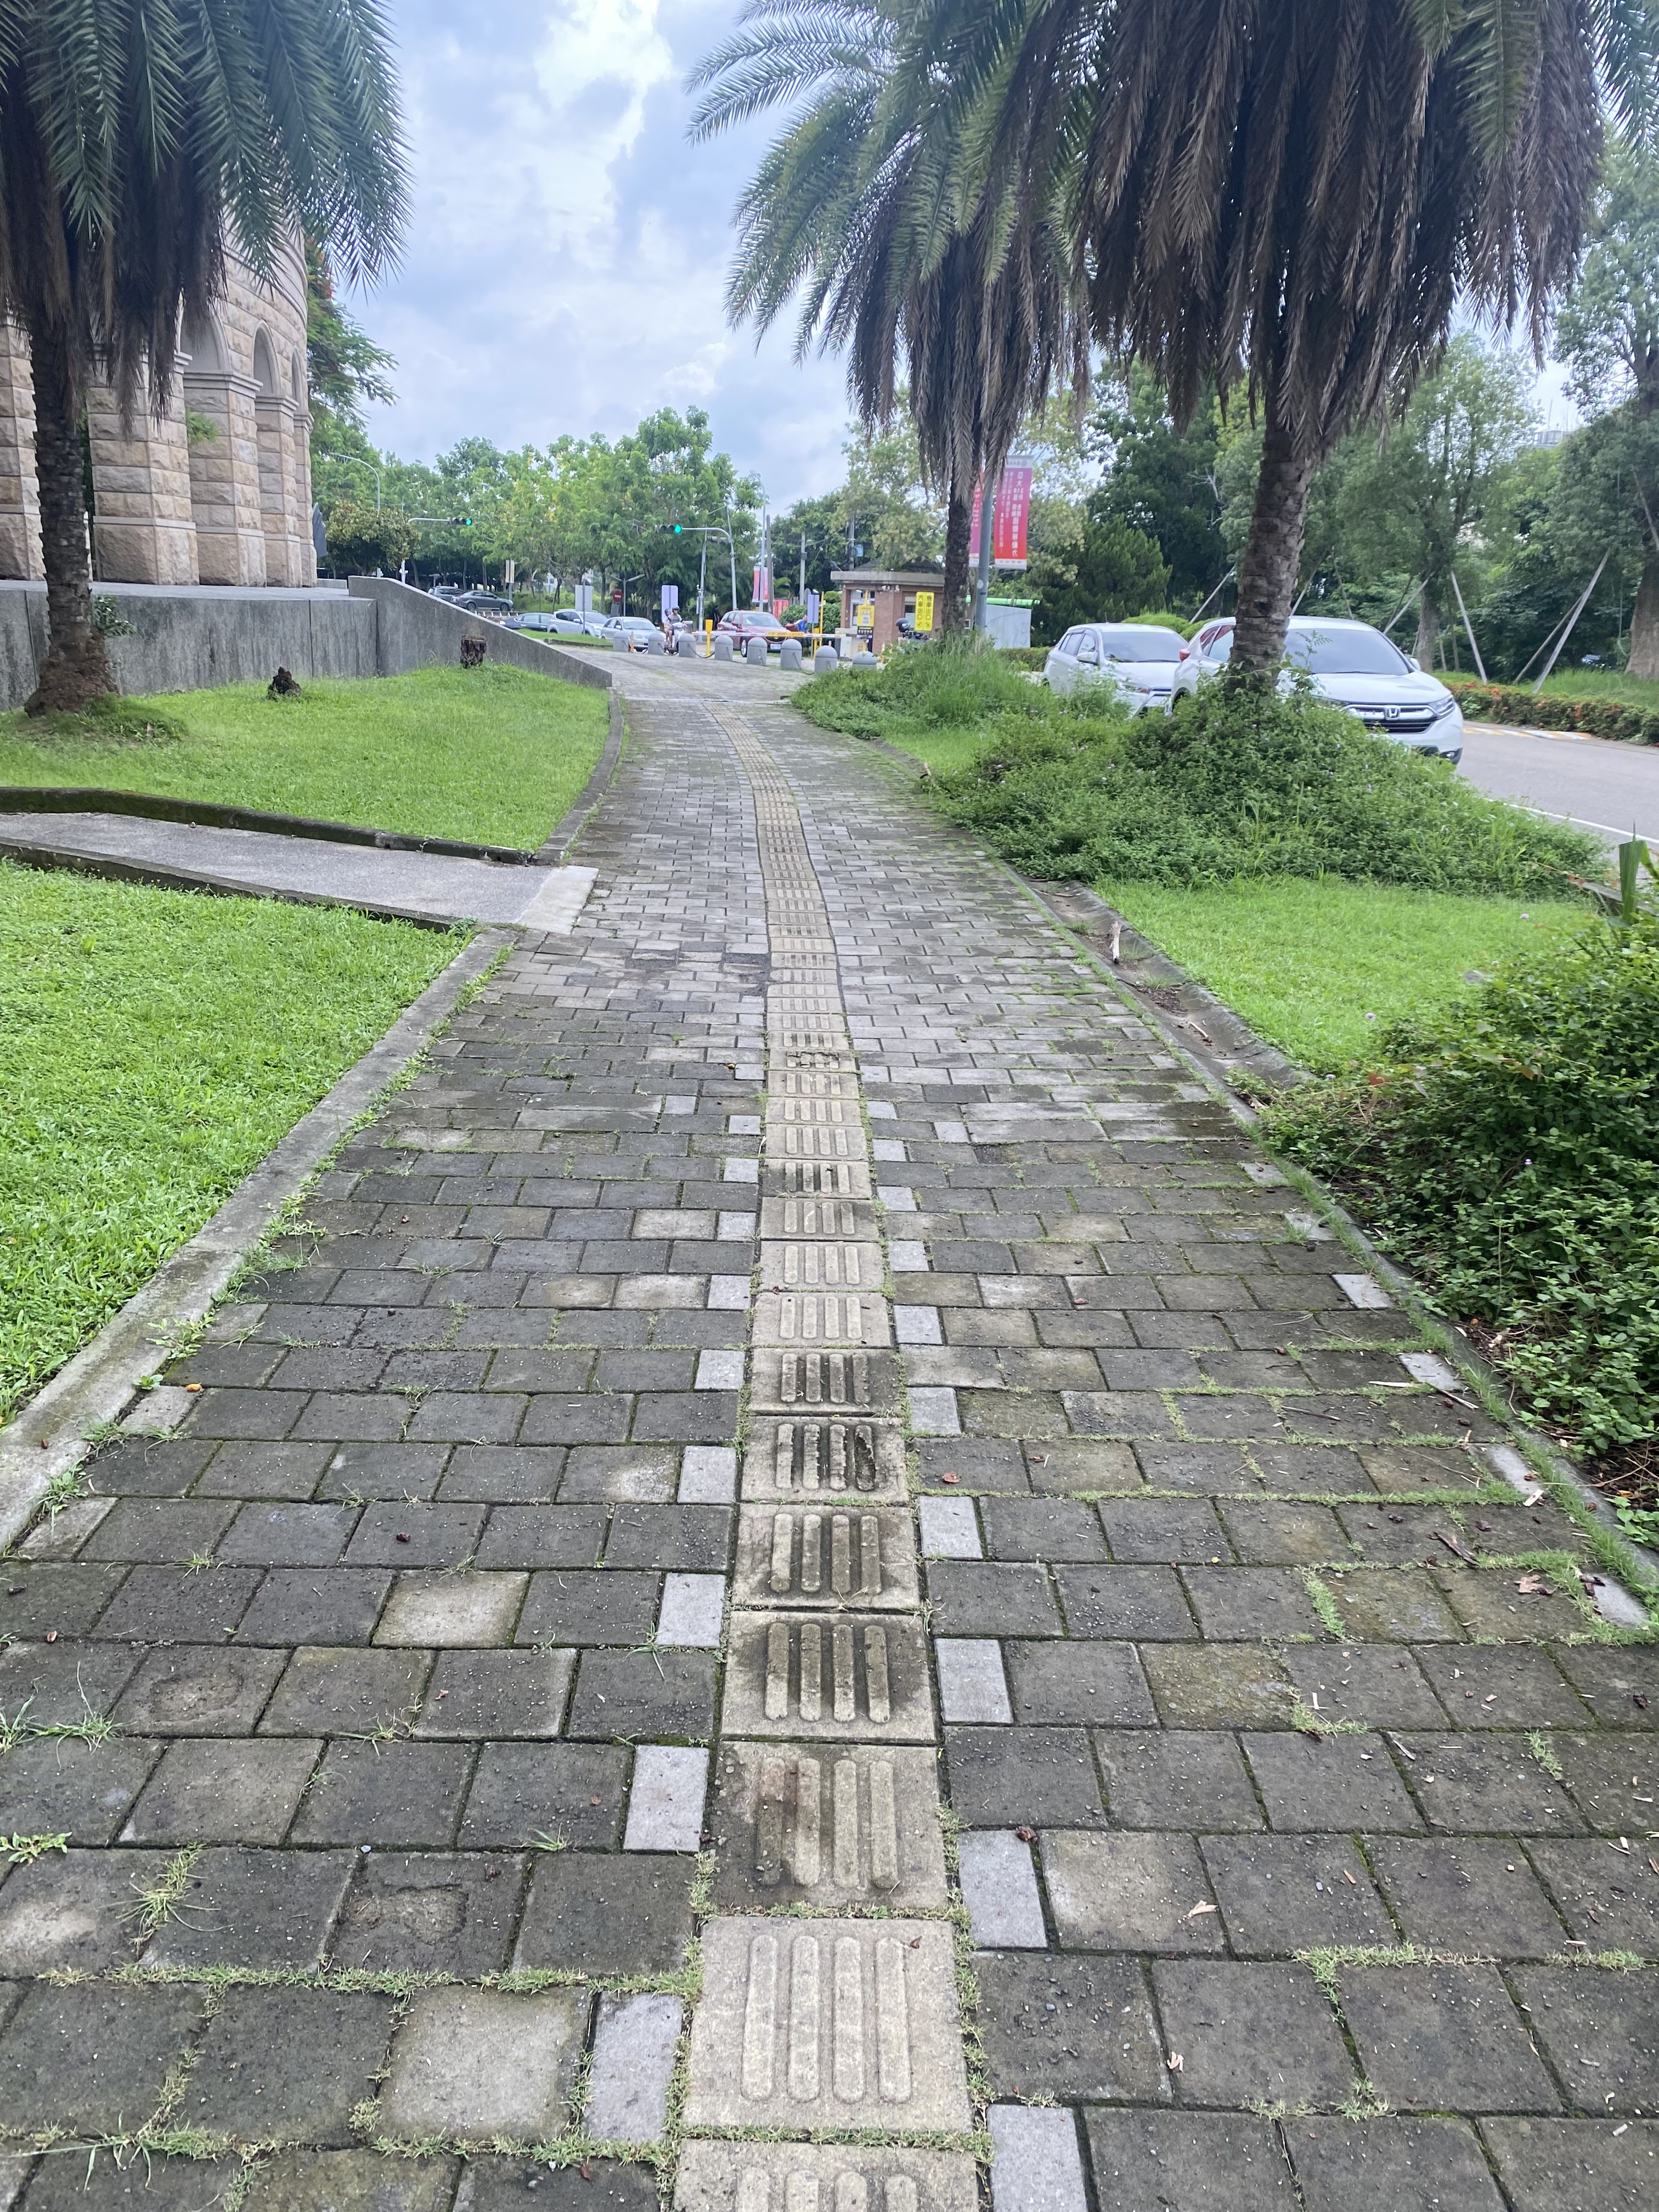0: (7, 829, 1659, 2212)
sidewalk: (598, 643, 1079, 1456)
